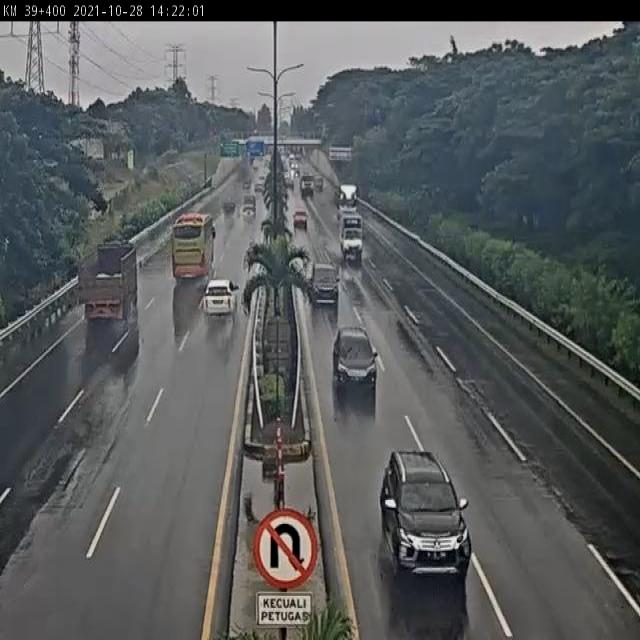Bus: (166, 204, 219, 284)
Car: (376, 441, 480, 578), (326, 324, 386, 388), (304, 262, 351, 308), (200, 274, 240, 323), (288, 209, 316, 234)
Truck: (68, 235, 144, 320), (336, 210, 369, 260), (333, 182, 361, 214), (220, 195, 237, 221)
